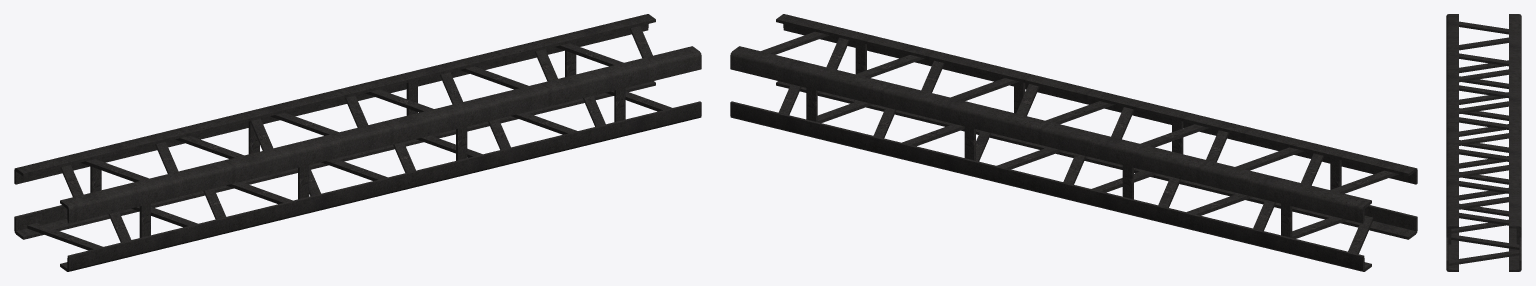
Rendered from beam_6.obj.
3 renders of one model, left to right at view 1: azimuth 30°, elevation 25°; view 2: azimuth 150°, elevation 25°; view 3: azimuth 270°, elevation 25°, orthographic. The views are drawn at different scales.
Visible parts, largest first — view 1: beam_6; view 2: beam_6; view 3: beam_6.
Part boxes in pixels (box(x1,y1,x2,y2)): beam_6: box(14, 14, 701, 271); beam_6: box(730, 14, 1417, 271); beam_6: box(1446, 14, 1521, 271).
Bounding box in the file's own units: 4 × 0.4 × 0.6.
